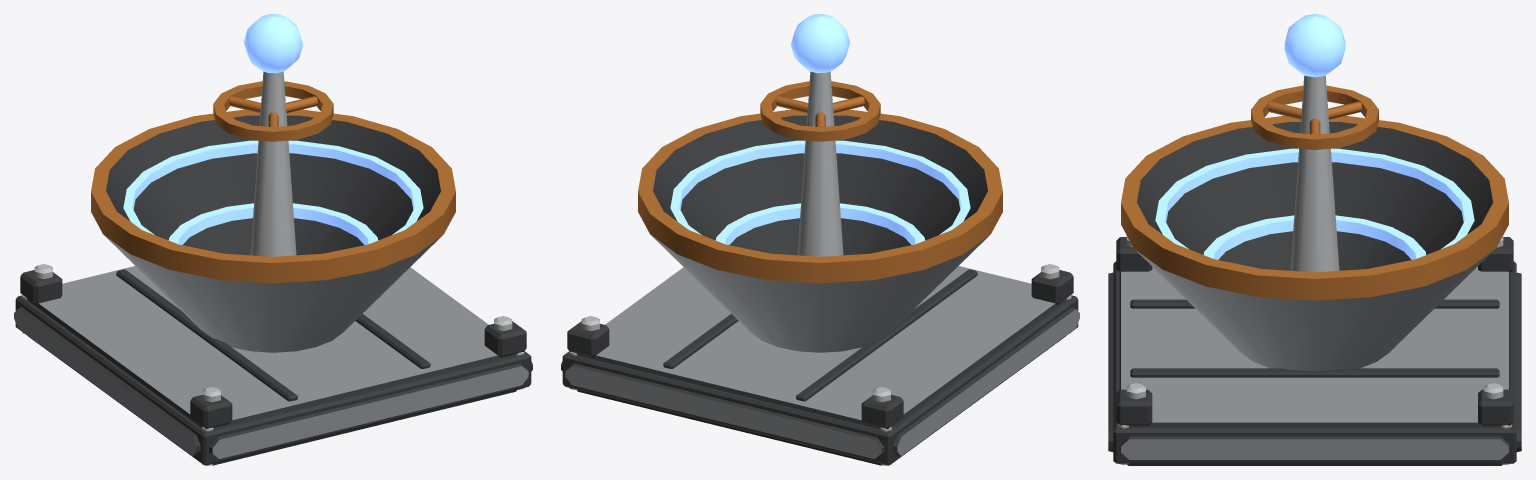
The model's file is R4X_ScannerPulse.fbx.
3 renders of one model, left to right at view 1: azimuth 30°, elevation 25°; view 2: azimuth 150°, elevation 25°; view 3: azimuth 270°, elevation 25°, orthographic. The views are drawn at different scales.
Parts seen in each view (by area): view 1: R4X_ScannerPulse_Body; view 2: R4X_ScannerPulse_Body; view 3: R4X_ScannerPulse_Body.
Part boxes in pixels (<box>): R4X_ScannerPulse_Body: <box>14,14,532,465</box>; R4X_ScannerPulse_Body: <box>561,14,1079,465</box>; R4X_ScannerPulse_Body: <box>1108,14,1521,465</box>.
Bounding box in the file's own units: 0.52 × 0.51 × 0.52.
